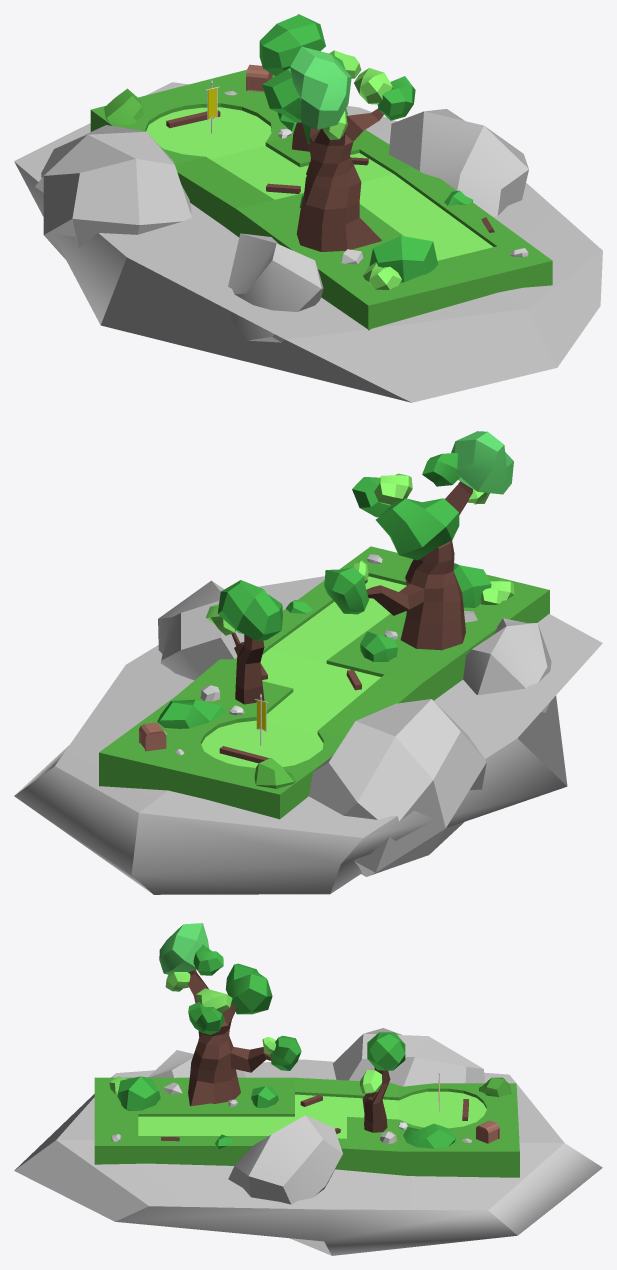
The model's file is BlenderCourse1.fbx.
3 renders of one model, top to bottom at view 1: azimuth 30°, elevation 25°; view 2: azimuth 150°, elevation 25°; view 3: azimuth 270°, elevation 25°, orthographic. The views are drawn at different scales.
Parts seen in each view (by area): view 1: rock.186, Cube.006, rock.182, Cube.005, rock.189, Cylinder.013, rock.190, rock.199, rock.205, rock.192, rock.204, rock.197 (+4 smaller); view 2: rock.186, Cube.006, rock.182, Cube.005, Cylinder.013, rock.190, rock.189, rock.204, rock.199, rock.205, Cylinder.015, rock.203 (+9 smaller); view 3: rock.186, Cube.006, Cube.005, rock.189, rock.182, Cylinder.013, rock.204, rock.199, rock.205, rock.192, Cylinder.015, rock.194 (+9 smaller).
Part boxes in pixels (box(x1,y1,x2,y2)): rock.186: box(14, 82, 602, 402); Cube.006: box(90, 69, 552, 330); rock.182: box(35, 125, 191, 259); Cube.005: box(146, 107, 493, 260); rock.189: box(388, 109, 528, 216); Cylinder.013: box(297, 108, 383, 251); rock.190: box(228, 233, 323, 342); rock.199: box(290, 46, 351, 129); rock.205: box(259, 14, 325, 76); rock.192: box(369, 236, 437, 282); rock.204: box(262, 67, 301, 122); rock.197: box(377, 76, 415, 120); rock.186: box(14, 562, 602, 894); Cube.006: box(99, 546, 549, 819); rock.182: box(309, 699, 486, 876); Cube.005: box(201, 576, 406, 767); Cylinder.013: box(366, 481, 472, 650); rock.190: box(463, 618, 551, 712); rock.189: box(158, 580, 244, 680); rock.204: box(376, 498, 459, 560); rock.199: box(451, 431, 513, 494); rock.205: box(217, 580, 282, 641); Cylinder.015: box(231, 632, 264, 704); rock.203: box(324, 567, 368, 614); rock.186: box(14, 1059, 602, 1255); Cube.006: box(94, 1077, 519, 1177); Cube.005: box(138, 1091, 486, 1138); rock.189: box(228, 1115, 342, 1204); rock.182: box(332, 1028, 484, 1086); Cylinder.013: box(187, 970, 270, 1106); rock.204: box(225, 963, 272, 1014); rock.199: box(159, 923, 209, 974); rock.205: box(367, 1032, 405, 1070); rock.192: box(117, 1076, 160, 1110); Cylinder.015: box(362, 1067, 390, 1132); rock.194: box(403, 1123, 455, 1148).
Bounding box in the file's own units: 731 × 545 × 1128.
